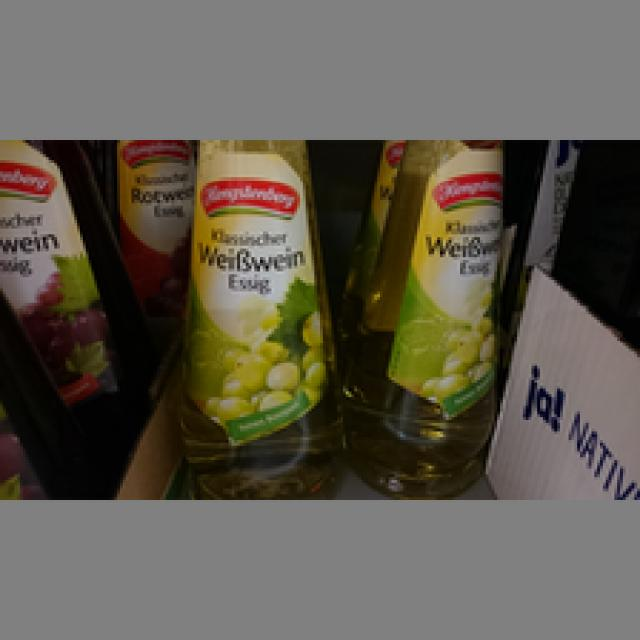groceries: (177, 134, 343, 497), (357, 134, 503, 494), (0, 137, 140, 469), (108, 137, 188, 303)
